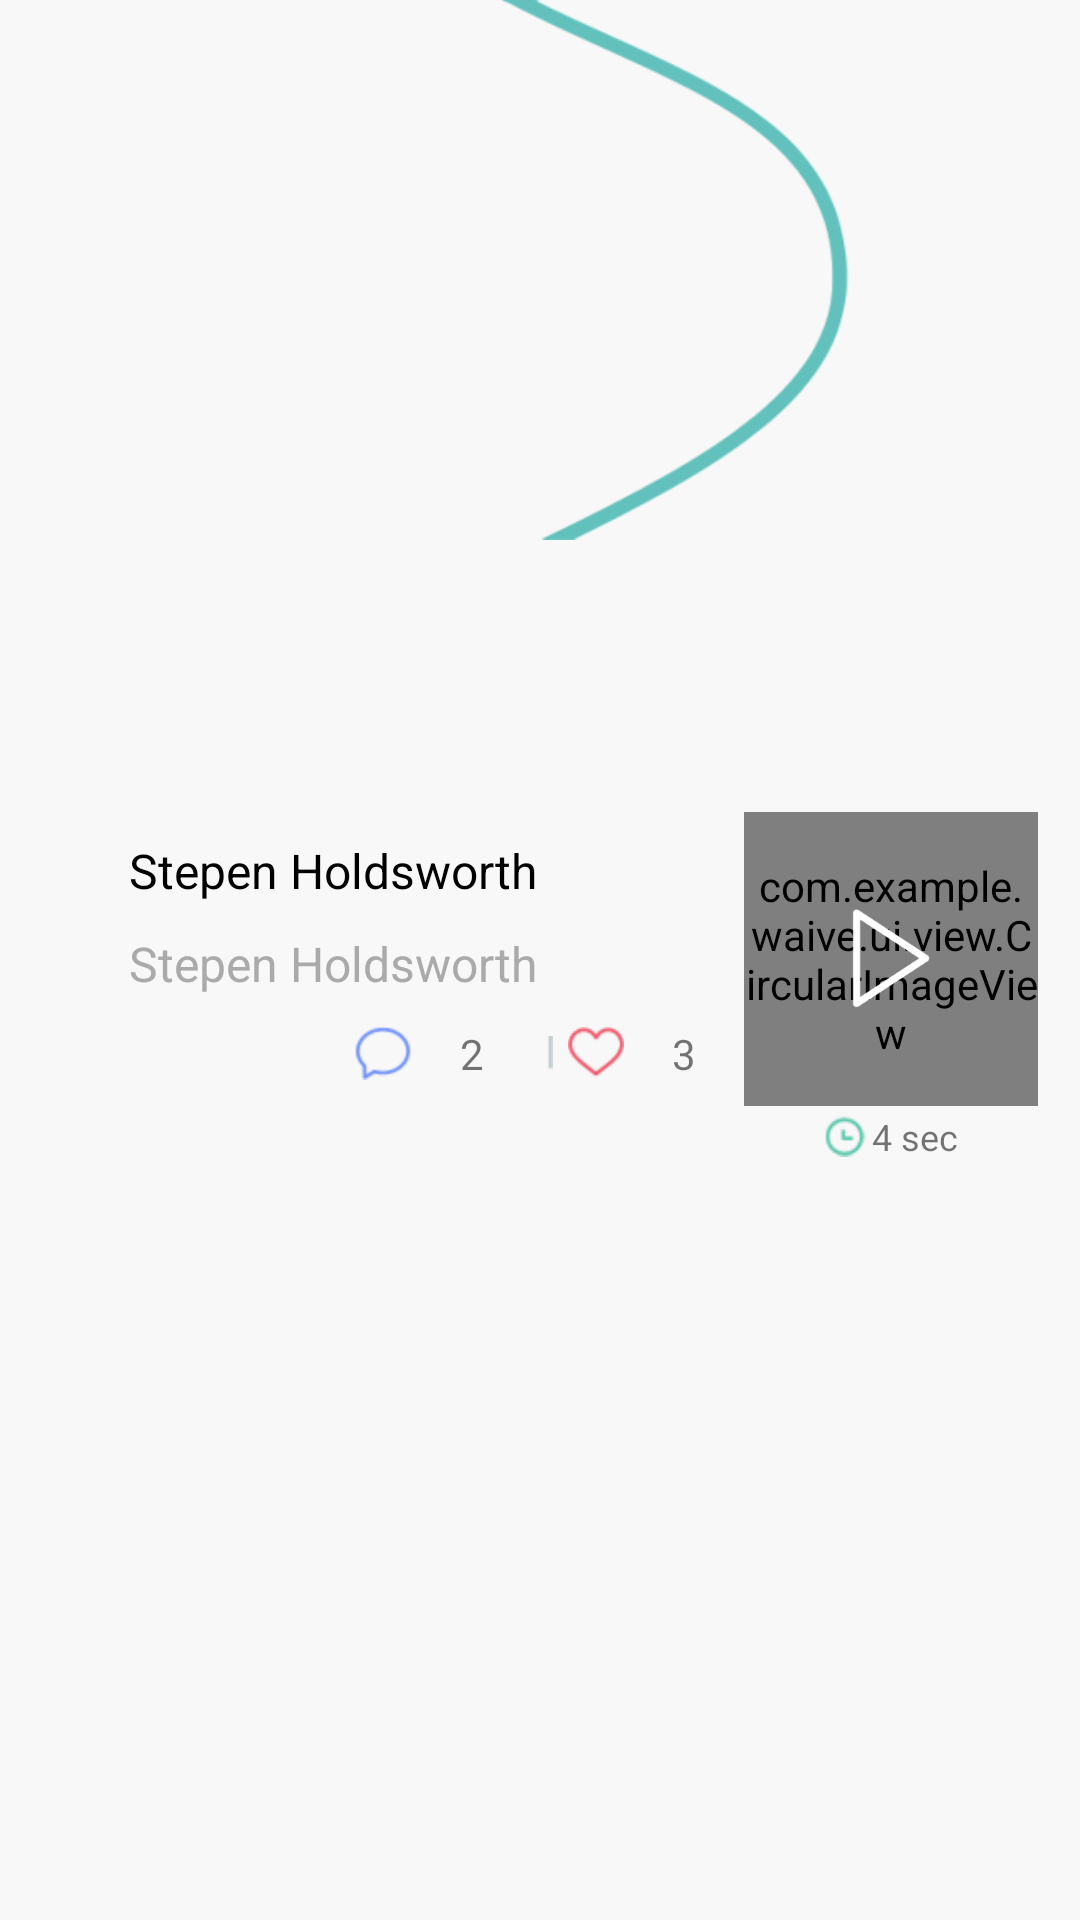

Screen size 1080x1920. Icon name, then its center in pixels as point (x, y):
clock: point (845, 1137)
comments: point (383, 1053)
heart: point (596, 1051)
play: point (891, 958)
